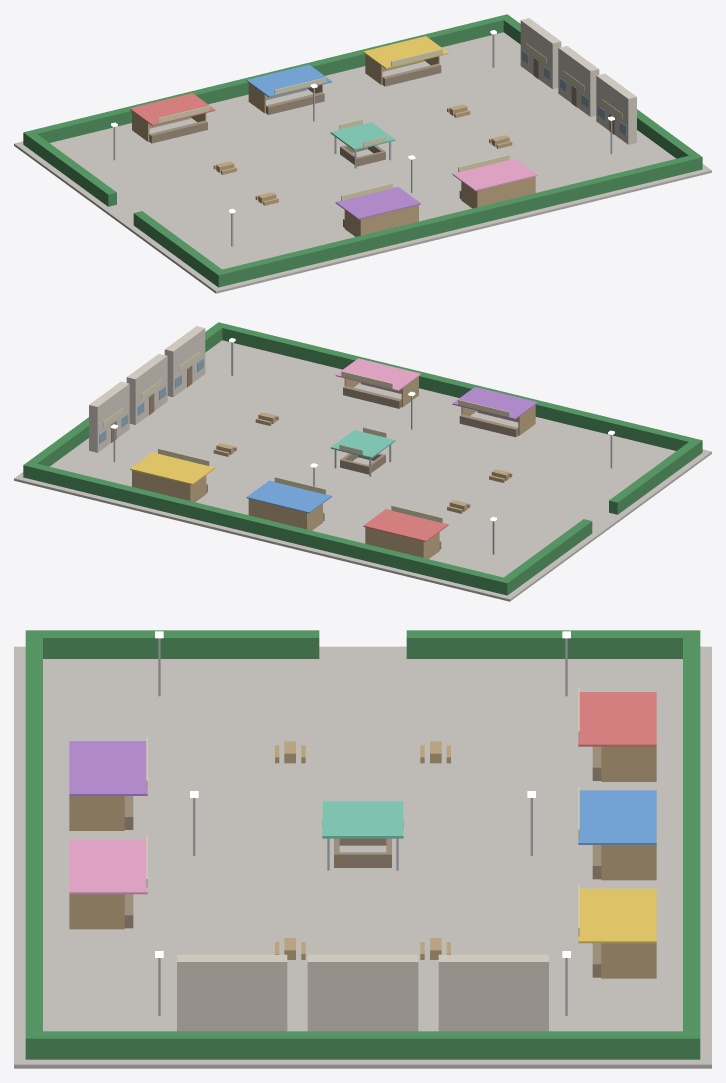
Rendered from market.glb.
3 views of the same model, one above another, from view 1: azimuth 30°, elevation 25°; view 2: azimuth 150°, elevation 25°; view 3: azimuth 270°, elevation 25° (orthographic). The views are drawn at different scales.
Visible parts, largest first — view 1: Ground_Market, Hedge_S_1, Hedge_N_1, Facade_3, Hedge_W_1, Facade_2, Facade_1, Hedge_W_2, Stall4_Awning, Stall5_Awning, Hedge_E_1, Stall1_Awning (+8 smaller); view 2: Ground_Market, Hedge_N_1, Hedge_S_1, Facade_1, Hedge_W_2, Facade_2, Facade_3, Hedge_W_1, Stall1_Awning, Stall2_Awning, Stall3_Awning, Hedge_E_1 (+8 smaller); view 3: Ground_Market, Hedge_E_1, Facade_2, Facade_1, Facade_3, Hedge_W_1, Hedge_W_2, Hedge_N_1, Hedge_S_1, Stall5_Awning, Stall3_Awning, Stall1_Awning (+9 smaller).
Part boxes in pixels (box(x1,y1,x2,y2)): Ground_Market: box(14, 32, 711, 293); Hedge_S_1: box(213, 153, 702, 287); Hedge_N_1: box(23, 14, 511, 147); Facade_3: box(596, 73, 636, 144); Hedge_W_1: box(28, 134, 116, 206); Facade_2: box(558, 46, 599, 116); Facade_1: box(520, 18, 561, 89); Hedge_W_2: box(133, 211, 221, 283); Stall4_Awning: box(335, 186, 420, 219); Stall5_Awning: box(452, 158, 537, 191); Hedge_E_1: box(503, 18, 697, 158); Stall1_Awning: box(130, 93, 215, 125); Ground_Market: box(14, 340, 711, 601); Hedge_N_1: box(23, 461, 512, 595); Hedge_S_1: box(214, 322, 702, 455); Facade_1: box(89, 381, 129, 452); Hedge_W_2: box(609, 442, 697, 514); Facade_2: box(126, 354, 167, 424); Facade_3: box(164, 326, 205, 397); Hedge_W_1: box(504, 519, 592, 591); Stall1_Awning: box(363, 509, 448, 541); Stall2_Awning: box(246, 480, 331, 513); Stall3_Awning: box(130, 452, 215, 484); Hedge_E_1: box(28, 326, 222, 466); Ground_Market: box(14, 646, 711, 1068); Hedge_E_1: box(43, 1031, 682, 1059); Facade_2: box(307, 954, 418, 1031); Facade_1: box(438, 954, 548, 1031); Facade_3: box(177, 954, 287, 1031); Hedge_W_1: box(406, 630, 682, 658); Hedge_W_2: box(43, 630, 319, 658); Hedge_N_1: box(683, 630, 700, 1059); Hedge_S_1: box(25, 630, 42, 1059); Stall5_Awning: box(69, 839, 147, 894); Stall3_Awning: box(578, 888, 656, 943); Stall1_Awning: box(578, 692, 656, 746).
Size of the model in its own units: 68 by 6.3 by 48.
